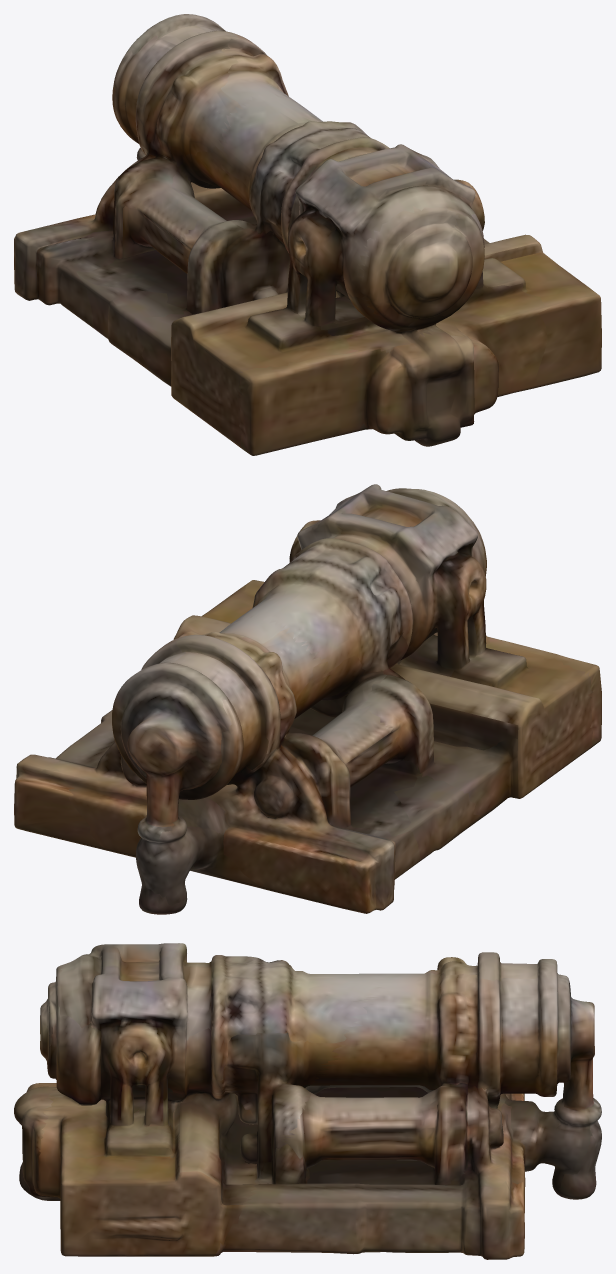
Rendered from import-1780595235206-tank.web.webp.glb.
The picture shows the model from 3 angles, top to bottom: view 1: azimuth 30°, elevation 25°; view 2: azimuth 150°, elevation 25°; view 3: azimuth 270°, elevation 25°; orthographic projection. The views are drawn at different scales.
Size of the model in its own units: 0.1471 by 0.0928 by 0.2089.
1 material, 1 textured.
